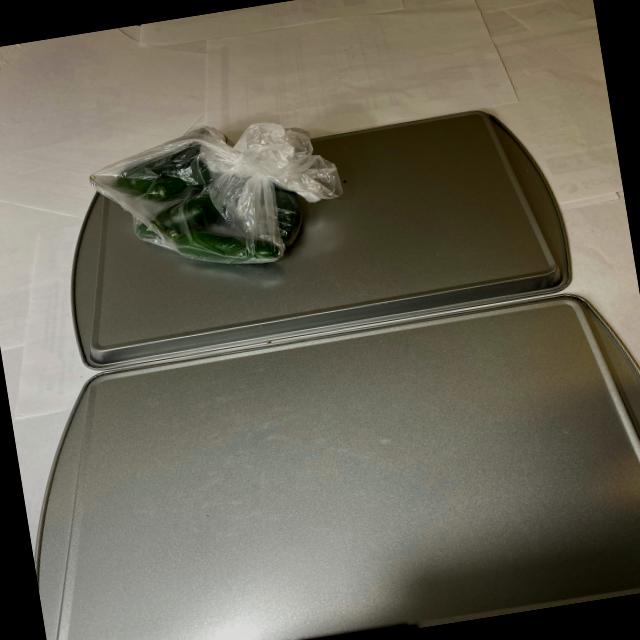chilli: (82, 119, 306, 288)
